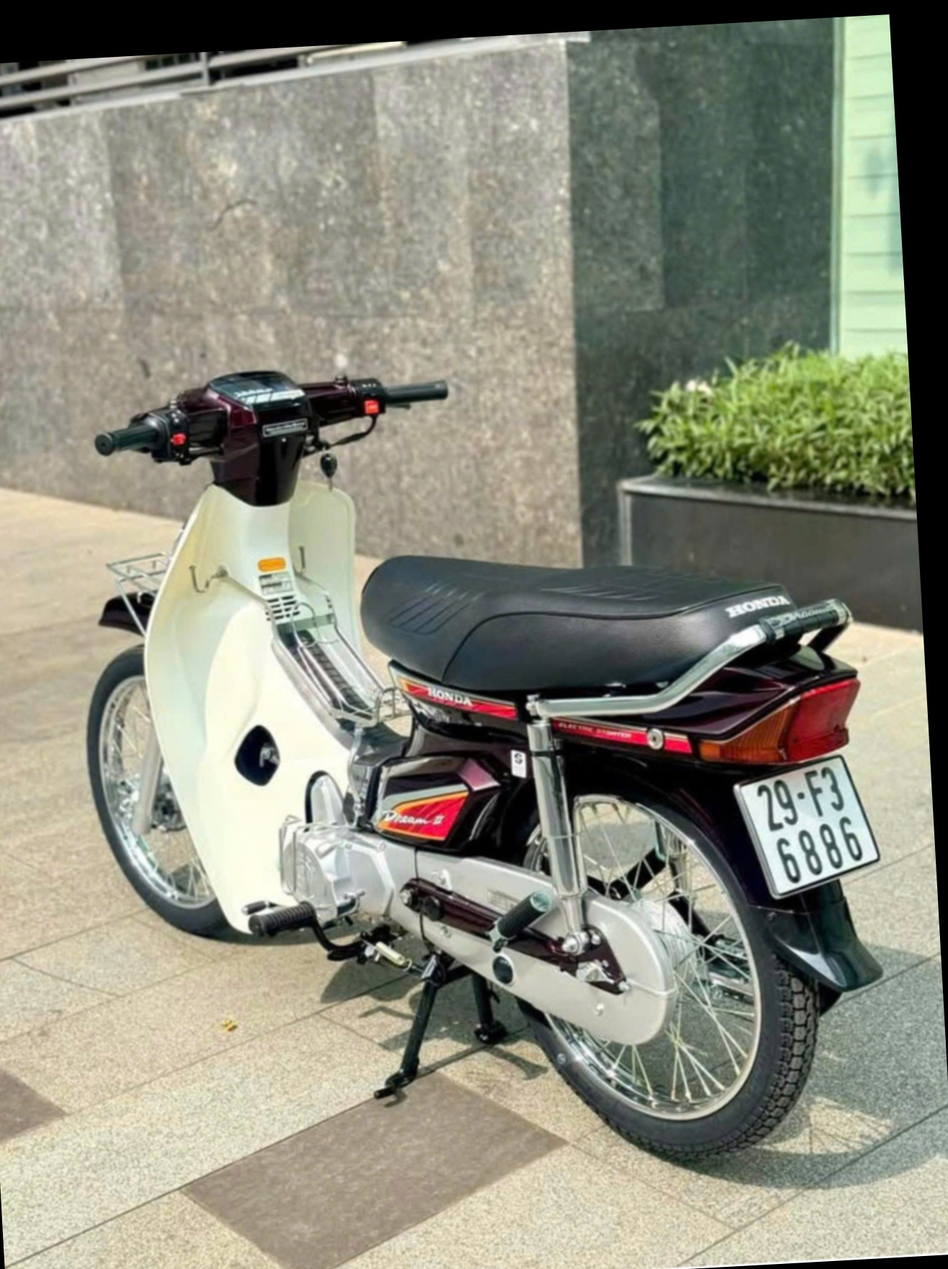Bien-so: (765, 742, 924, 896)
